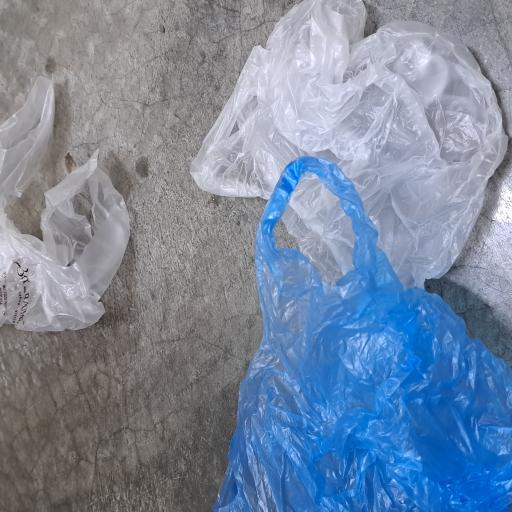plastic bag: (0, 266, 267, 512), (160, 253, 384, 512), (129, 0, 328, 181)
